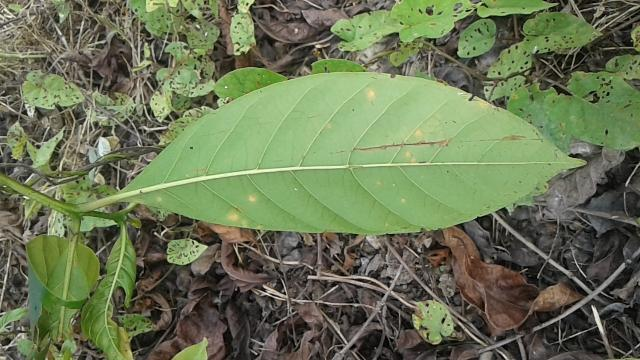rust_level_2: (112, 74, 586, 232)
